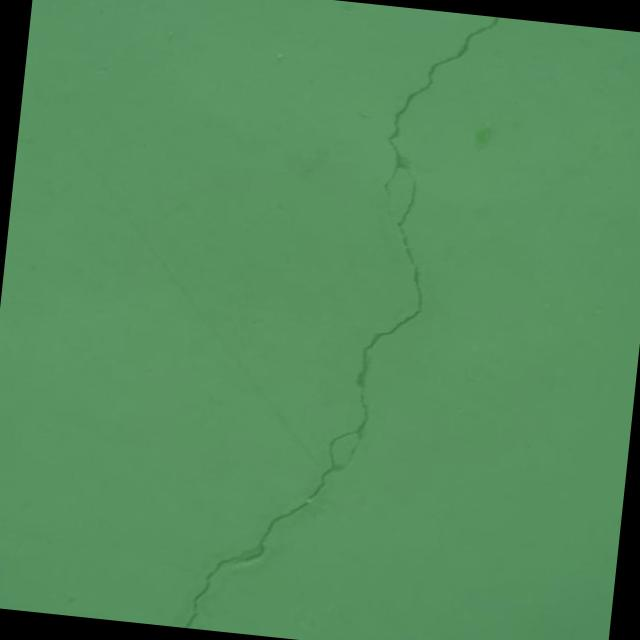crack: (180, 0, 499, 640)
